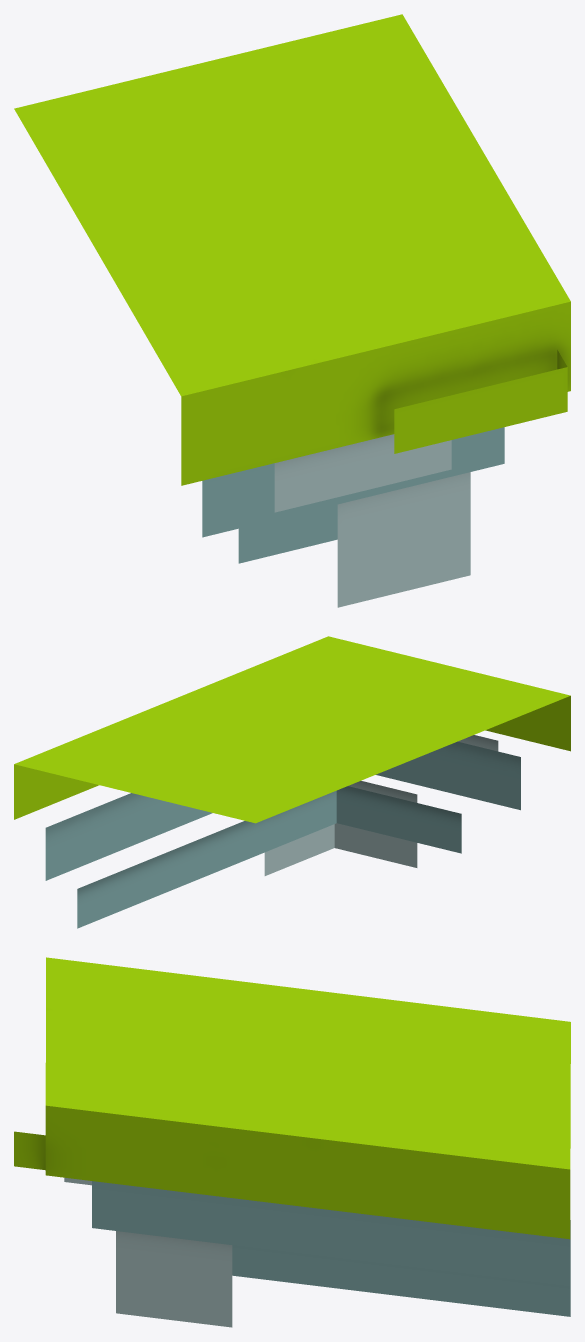
The model's file is Field_Type_03_02.FBX.
3 renders of one model, top to bottom at view 1: azimuth 30°, elevation 25°; view 2: azimuth 150°, elevation 25°; view 3: azimuth 270°, elevation 25°, orthographic. The views are drawn at different scales.
Visible parts, largest first — view 1: Field_Type_03_02; view 2: Field_Type_03_02; view 3: Field_Type_03_02.
Boxes of the visible parts, left/top/right/bottom form: Field_Type_03_02: left=14, top=14, right=570, bottom=607; Field_Type_03_02: left=14, top=636, right=570, bottom=928; Field_Type_03_02: left=14, top=957, right=570, bottom=1327.
Bounding box in the file's own units: 10.32 × 5.19 × 11.46.
